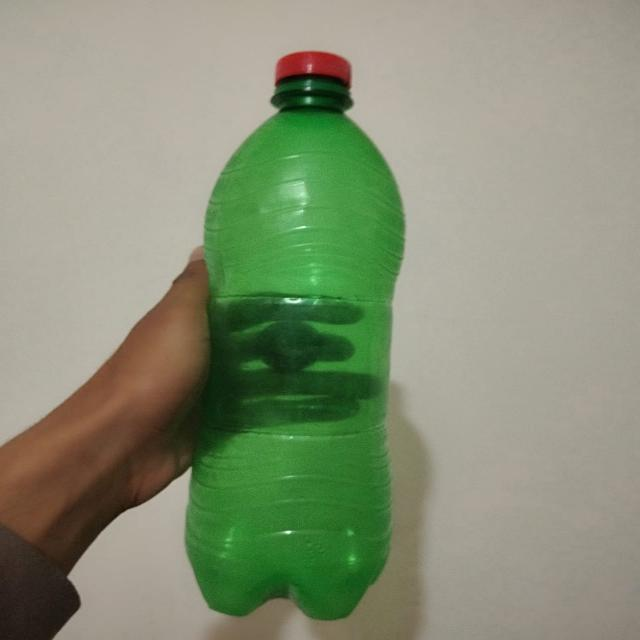bottle: (199, 50, 405, 619)
cap: (274, 49, 352, 89)
